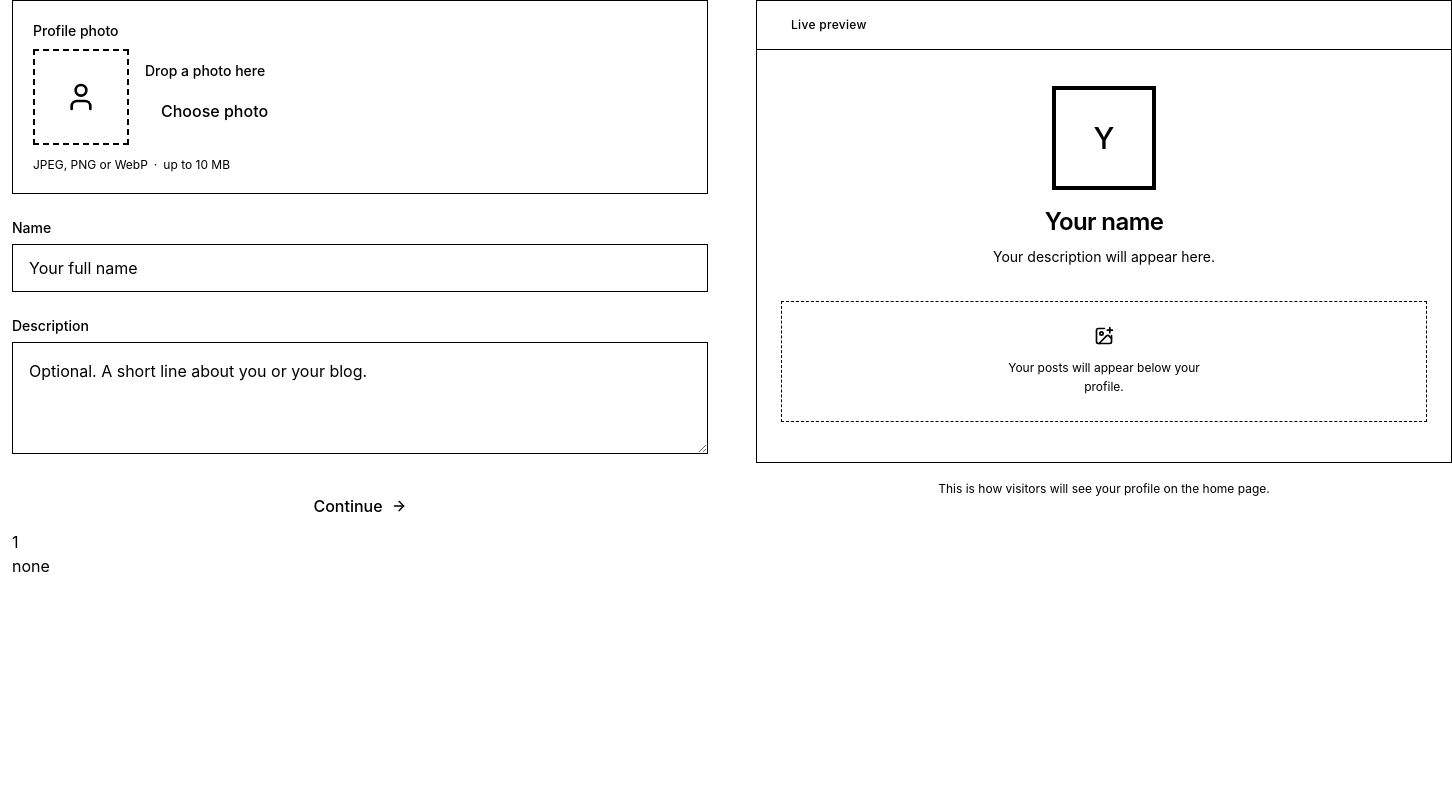
Test: ProfileStep › Given typing, should update the preview heading and description on every keystroke
The image size is (1452, 810).
In the field labelled "Name": [360, 268] box [12,244,708,292], type "Grace"
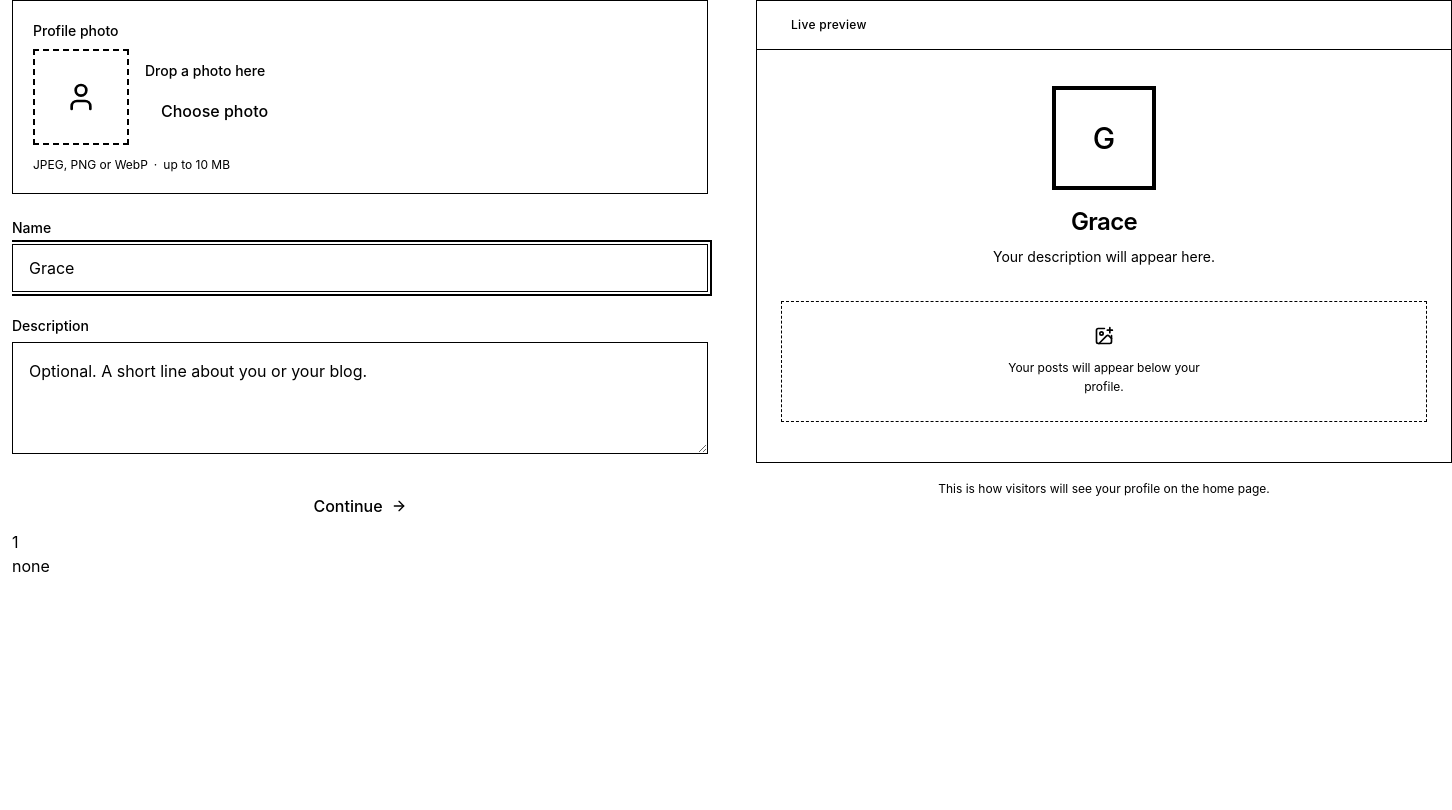
In the text box labelled "Description": [360, 398] box [12,342,708,454], type "Compiler"
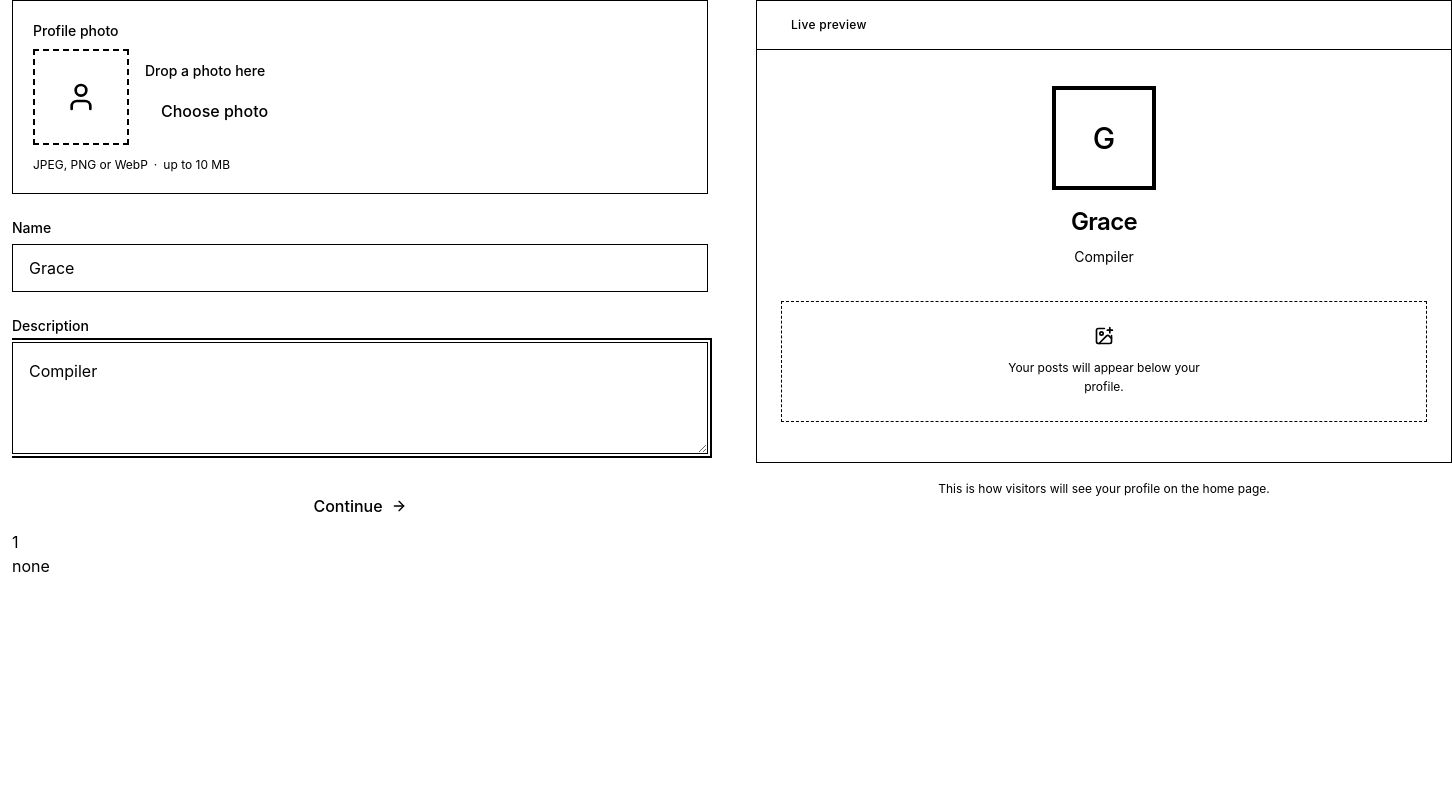
Expected: the element named "Public profile preview" shows "Grace", [1071,207,1137,236]
Expected: the element named "Public profile preview" shows "Compiler", [1074,248,1134,265]
